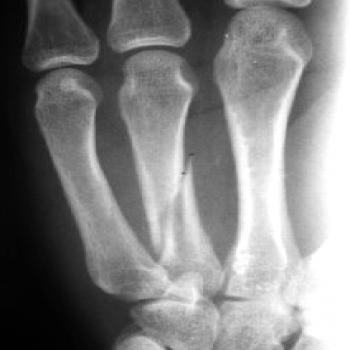Fracture: (148, 144, 208, 267)
